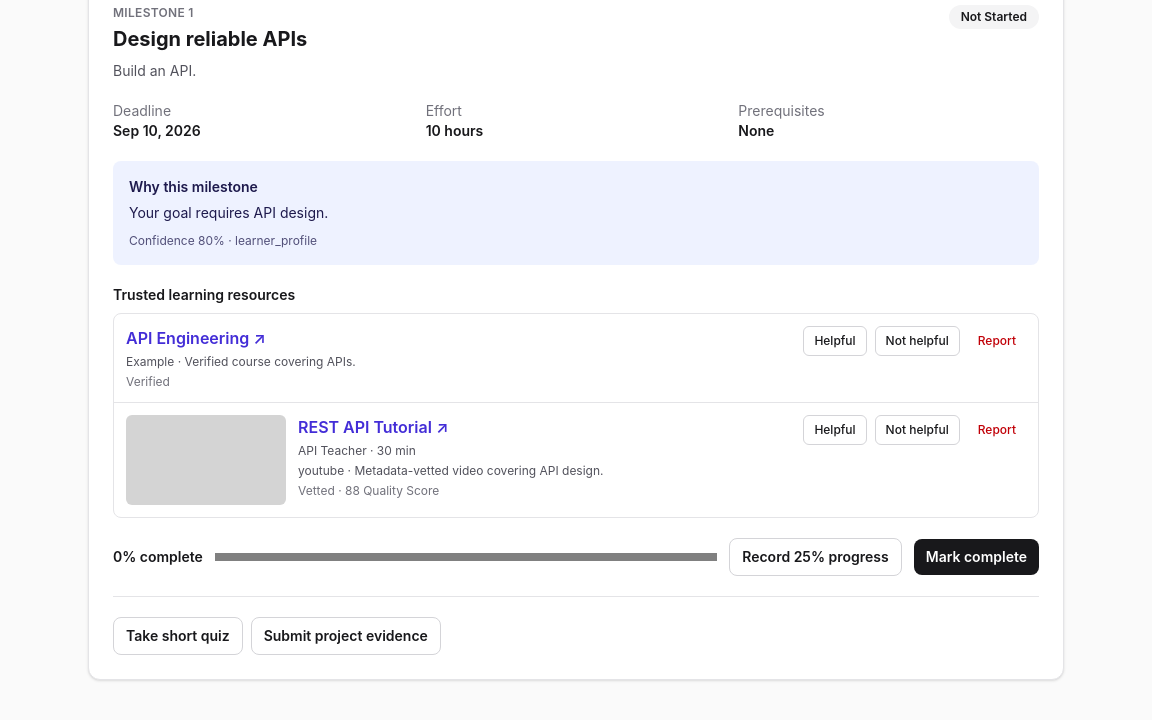
Test case: Roadmap page › updates a milestone without losing the roadmap
The image size is (1152, 720).
(page scrolled)
Expected: the heading "Design reliable APIs" is shown, [113,25,307,53]
Click the button "Record 25% progress": click(815, 557) [729,538,902,576]
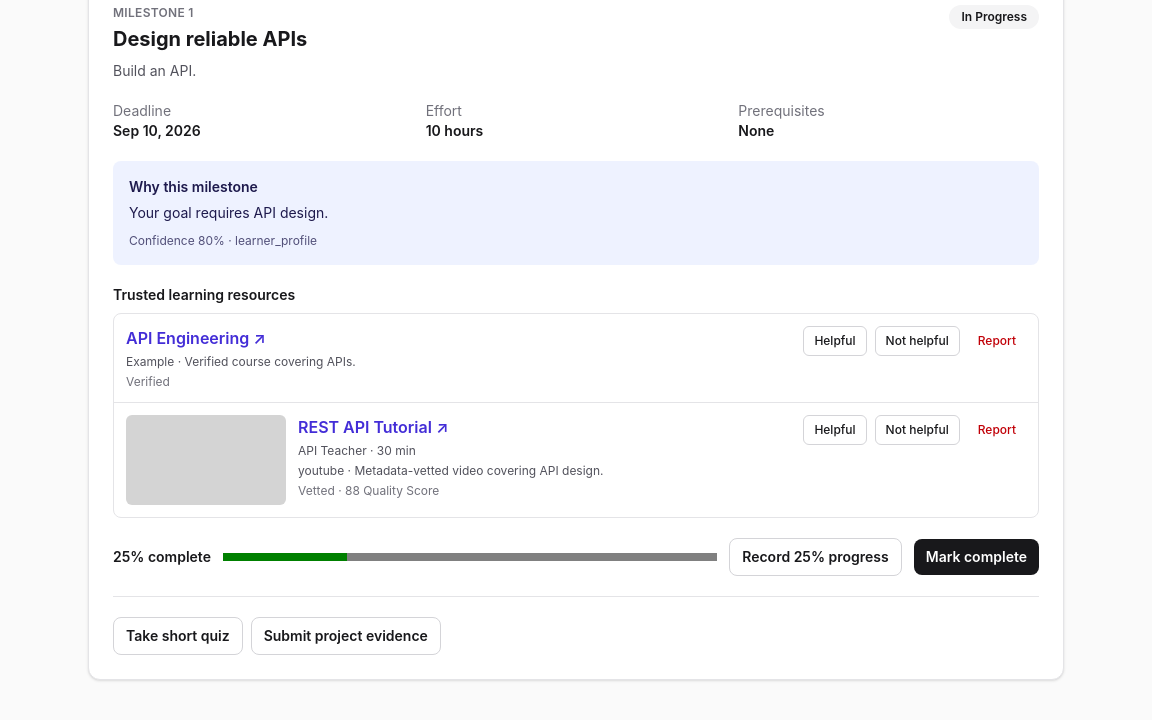
Now the text "25% complete" is shown, box [113,547,211,567]
